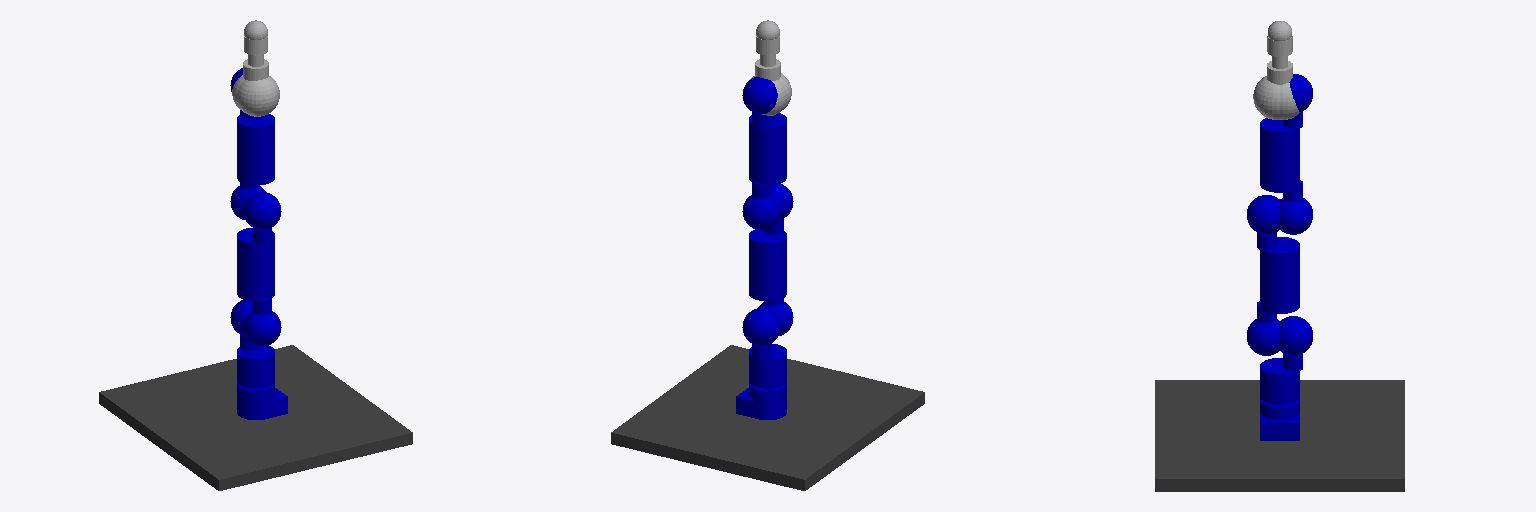
robot.urdf — lwr:
<?xml version="1.0" ?>
<!-- =================================================================================== -->
<!-- |    This document was autogenerated by xacro from kuka_lwr_arm.urdf.xml          | -->
<!-- |    EDITING THIS FILE BY HAND IS NOT RECOMMENDED                                 | -->
<!-- =================================================================================== -->
<robot name="lwr" xmlns:controller="http://playerstage.sourceforge.net/gazebo/xmlschema/#controller" xmlns:interface="http://playerstage.sourceforge.net/gazebo/xmlschema/#interface" xmlns:sensor="http://playerstage.sourceforge.net/gazebo/xmlschema/#sensor" xmlns:xacro="http://playerstage.sourceforge.net/gazebo/xmlschema/#interface">
  <material name="DarkGrey">
    <color rgba="0.3 0.3 0.3 1.0"/>
  </material>
  <material name="Red">
    <color rgba="0.3 0.3 0.3 1.0"/>
  </material>
  <material name="Black">
    <color rgba="0 0 0 1.0"/>
  </material>
  <material name="Orange">
    <color rgba="1.0 0.487 0 1.0"/>
  </material>
  <material name="Silver">
    <color rgba="1.0 1.0 1.0 1.0"/>
  </material>
  <material name="Grey">
    <color rgba="0.7 0.7 0.7 1.0"/>
  </material>
  <material name="Blue">
    <color rgba="0.0 0.0 0.8 1.0"/>
  </material>
  <material name="HandGray">
    <color rgba="0.953 0.996 0.694 1.0"/>
  </material>
  <material name="SickBlue">
    <color rgba="0.3058 0.5921 0.7294 1.0"/>
  </material>
  <link name="world_frame">
    <visual>
      <origin rpy="0 0 0" xyz="0 0 -0.02"/>
      <geometry>
        <box size="0.7 0.75 0.04"/>
      </geometry>
      <material name="DarkGrey"/>
    </visual>
    <collision>
      <origin rpy="0 0 0" xyz="0 0 -0.02"/>
      <geometry>
        <box size="0.7 0.75 0.04"/>
      </geometry>
    </collision>
  </link>
  <joint name="world_frame_lwr_arm_base_joint" type="fixed">
    <origin rpy="0 0 0" xyz="0 0 0"/>
    <parent link="world_frame"/>
    <child link="base"/>
  </joint>
  <link name="base">
    <inertial>
      <mass value="2.0"/>
      <origin xyz="0 0 0.055"/>
      <inertia ixx="0.00381666666667" ixy="0" ixz="0" iyy="0.0036" iyz="0" izz="0.00381666666667"/>
    </inertial>
    <visual>
      <origin rpy="0 0 0" xyz="0.04 0 0.03"/>
      <geometry>
        <box size="0.08 0.12 0.06"/>
      </geometry>
      <material name="Blue"/>
    </visual>
    <visual>
      <origin rpy="0 0 0" xyz="0 0 0.05"/>
      <geometry>
        <cylinder length="0.1" radius="0.06"/>
      </geometry>
      <material name="Blue"/>
    </visual>
    <collision>
      <origin rpy="0 0 0" xyz="0.04 0 0.03"/>
      <geometry>
        <box size="0.08 0.12 0.06"/>
      </geometry>
    </collision>
    <collision>
      <origin rpy="0 0 0" xyz="0 0 0.05"/>
      <geometry>
        <cylinder length="0.1" radius="0.06"/>
      </geometry>
    </collision>
  </link>
  <joint name="lwr_arm_0_joint" type="revolute">
    <origin rpy="0 0 3.14159265359" xyz="0 0 0.11"/>
    <axis xyz="0 0 1"/>
    <limit effort="204" lower="-2.96705972839" upper="2.96705972839" velocity="1.91986217719"/>
    <safety_controller k_position="30" k_velocity="30" soft_lower_limit="-2.93215314335" soft_upper_limit="2.93215314335"/>
    <dynamics damping="1.0"/>
    <parent link="base"/>
    <child link="lwr_arm_1_link"/>
  </joint>
  <link name="lwr_arm_1_link">
    <inertial>
      <mass value="2.0"/>
      <origin rpy="0 0 0" xyz="0 -0.06 0.130"/>
      <inertia ixx="0.0136666666667" ixy="0" ixz="0" iyy="0.003" iyz="0" izz="0.0118666666667"/>
    </inertial>
    <visual>
      <origin rpy="0 0 0" xyz="0 0 0.05"/>
      <geometry>
        <cylinder length="0.1" radius="0.06"/>
      </geometry>
      <material name="Blue"/>
    </visual>
    <visual>
      <origin rpy="0 0 0" xyz="0 -0.04 0.12"/>
      <geometry>
        <cylinder length="0.05" radius="0.03"/>
      </geometry>
      <material name="Blue"/>
    </visual>
    <visual>
      <origin rpy="0 0 0" xyz="0 -0.04 0.2"/>
      <geometry>
        <sphere radius="0.06"/>
      </geometry>
      <material name="Blue"/>
    </visual>
    <collision>
      <origin rpy="0 0 0" xyz="0 0 0.05"/>
      <geometry>
        <cylinder length="0.1" radius="0.06"/>
      </geometry>
    </collision>
    <collision>
      <origin rpy="0 0 0" xyz="0 -0.04 0.2"/>
      <geometry>
        <sphere radius="0.06"/>
      </geometry>
    </collision>
  </link>
  <!-- Third segment of the arm. Joint along y-axis -->
  <joint name="lwr_arm_1_joint" type="revolute">
    <origin rpy="0 0 0" xyz="0 0 0.2"/>
    <axis xyz="0 1 0"/>
    <limit effort="306" lower="-2.09439510239" upper="2.09439510239" velocity="1.91986217719"/>
    <safety_controller k_position="30" k_velocity="30" soft_lower_limit="-2.05948851735" soft_upper_limit="2.05948851735"/>
    <dynamics damping="1.0" friction="10"/>
    <parent link="lwr_arm_1_link"/>
    <child link="lwr_arm_2_link"/>
  </joint>
  <link name="lwr_arm_2_link">
    <inertial>
      <mass value="2.0"/>
      <origin rpy="0 0 0" xyz="0 0.06 0.07"/>
      <inertia ixx="0.0136666666667" ixy="0" ixz="0" iyy="0.003" iyz="0" izz="0.0118666666667"/>
    </inertial>
    <visual>
      <origin rpy="0 0 0" xyz="0 0 0.15"/>
      <geometry>
        <cylinder length="0.1" radius="0.06"/>
      </geometry>
      <material name="Blue"/>
    </visual>
    <visual>
      <origin rpy="0 0 0" xyz="0 0.04 0.08"/>
      <geometry>
        <cylinder length="0.05" radius="0.03"/>
      </geometry>
      <material name="Blue"/>
    </visual>
    <visual>
      <origin rpy="0 0 0" xyz="0 0.04 0"/>
      <geometry>
        <sphere radius="0.06"/>
      </geometry>
      <material name="Blue"/>
    </visual>
    <collision>
      <origin rpy="0 0 0" xyz="0 0 0.15"/>
      <geometry>
        <cylinder length="0.1" radius="0.06"/>
      </geometry>
    </collision>
    <collision>
      <origin rpy="0 0 0" xyz="0 0.04 0"/>
      <geometry>
        <sphere radius="0.06"/>
      </geometry>
    </collision>
  </link>
  <joint name="lwr_arm_2_joint" type="revolute">
    <origin rpy="0 0 0" xyz="0 0 0.20"/>
    <axis xyz="0 0 1"/>
    <limit effort="204" lower="-2.96705972839" upper="2.96705972839" velocity="2.26892802759"/>
    <safety_controller k_position="30" k_velocity="30" soft_lower_limit="-2.93215314335" soft_upper_limit="2.93215314335"/>
    <dynamics damping="1.0"/>
    <parent link="lwr_arm_2_link"/>
    <child link="lwr_arm_3_link"/>
  </joint>
  <link name="lwr_arm_3_link">
    <inertial>
      <mass value="2.0"/>
      <origin rpy="0 0 0" xyz="0 0.06 0.130"/>
      <inertia ixx="0.0136666666667" ixy="0" ixz="0" iyy="0.003" iyz="0" izz="0.0118666666667"/>
    </inertial>
    <visual>
      <origin rpy="0 0 0" xyz="0 0 0.05"/>
      <geometry>
        <cylinder length="0.1" radius="0.06"/>
      </geometry>
      <material name="Blue"/>
    </visual>
    <visual>
      <origin rpy="0 0 0" xyz="0 0.04 0.12"/>
      <geometry>
        <cylinder length="0.05" radius="0.03"/>
      </geometry>
      <material name="Blue"/>
    </visual>
    <visual>
      <origin rpy="0 0 0" xyz="0 0.04 0.2"/>
      <geometry>
        <sphere radius="0.06"/>
      </geometry>
      <material name="Blue"/>
    </visual>
    <collision>
      <origin rpy="0 0 0" xyz="0 0 0.05"/>
      <geometry>
        <cylinder length="0.1" radius="0.06"/>
      </geometry>
    </collision>
    <collision>
      <origin rpy="0 0 0" xyz="0 0.04 0.2"/>
      <geometry>
        <sphere radius="0.06"/>
      </geometry>
    </collision>
  </link>
  <!-- fifth element of the arm. x-axis -->
  <joint name="lwr_arm_3_joint" type="revolute">
    <origin rpy="0 0 0" xyz="0 0 0.20"/>
    <axis xyz="0 -1 0"/>
    <limit effort="306" lower="-2.09439510239" upper="2.09439510239" velocity="2.26892802759"/>
    <safety_controller k_position="30" k_velocity="30" soft_lower_limit="-2.05948851735" soft_upper_limit="2.05948851735"/>
    <dynamics damping="1.0"/>
    <parent link="lwr_arm_3_link"/>
    <child link="lwr_arm_4_link"/>
  </joint>
  <link name="lwr_arm_4_link">
    <inertial>
      <mass value="2.0"/>
      <origin rpy="0 0 0" xyz="0 -0.06 0.07"/>
      <inertia ixx="0.0136666666667" ixy="0" ixz="0" iyy="0.003" iyz="0" izz="0.0118666666667"/>
    </inertial>
    <visual>
      <origin rpy="0 0 0" xyz="0 0 0.15"/>
      <geometry>
        <cylinder length="0.1" radius="0.06"/>
      </geometry>
      <material name="Blue"/>
    </visual>
    <visual>
      <origin rpy="0 0 0" xyz="0 -0.04 0.08"/>
      <geometry>
        <cylinder length="0.05" radius="0.03"/>
      </geometry>
      <material name="Blue"/>
    </visual>
    <visual>
      <origin rpy="0 0 0" xyz="0 -0.04 0"/>
      <geometry>
        <sphere radius="0.06"/>
      </geometry>
      <material name="Blue"/>
    </visual>
    <collision>
      <origin rpy="0 0 0" xyz="0 0 0.15"/>
      <geometry>
        <cylinder length="0.1" radius="0.06"/>
      </geometry>
    </collision>
    <collision>
      <origin rpy="0 0 0" xyz="0 -0.04 0"/>
      <geometry>
        <sphere radius="0.06"/>
      </geometry>
    </collision>
  </link>
  <joint name="lwr_arm_4_joint" type="revolute">
    <origin rpy="0 0 0" xyz="0 0 0.20"/>
    <axis xyz="0 0 1"/>
    <limit effort="204" lower="-2.96705972839" upper="2.96705972839" velocity="2.26892802759"/>
    <safety_controller k_position="30" k_velocity="30" soft_lower_limit="-2.93215314335" soft_upper_limit="2.93215314335"/>
    <dynamics damping="1.0"/>
    <parent link="lwr_arm_4_link"/>
    <child link="lwr_arm_5_link"/>
  </joint>
  <link name="lwr_arm_5_link">
    <inertial>
      <mass value="2.0"/>
      <origin rpy="0 0 0" xyz="0 0 0.124"/>
      <inertia ixx="0.0126506666667" ixy="0" ixz="0" iyy="0.003" iyz="0" izz="0.0108506666667"/>
    </inertial>
    <visual>
      <origin rpy="0 0 0" xyz="0 0 0.05"/>
      <geometry>
        <cylinder length="0.1" radius="0.06"/>
      </geometry>
      <material name="Blue"/>
    </visual>
    <visual>
      <origin rpy="0 0 0" xyz="0 -0.04 0.12"/>
      <geometry>
        <cylinder length="0.05" radius="0.03"/>
      </geometry>
      <material name="Blue"/>
    </visual>
    <visual>
      <origin rpy="0 0 0" xyz="0 -0.04 0.2"/>
      <geometry>
        <sphere radius="0.06"/>
      </geometry>
      <material name="Blue"/>
    </visual>
    <collision>
      <origin rpy="0 0 0" xyz="0 0 0.05"/>
      <geometry>
        <cylinder length="0.1" radius="0.06"/>
      </geometry>
    </collision>
    <collision>
      <origin rpy="0 0 0" xyz="0 -0.04 0.2"/>
      <geometry>
        <sphere radius="0.06"/>
      </geometry>
    </collision>
  </link>
  <joint name="lwr_arm_5_joint" type="revolute">
    <origin rpy="0 0 0" xyz="0 0 0.19"/>
    <axis xyz="0 1 0"/>
    <limit effort="306" lower="-2.09439510239" upper="2.09439510239" velocity="3.14159265359"/>
    <safety_controller k_position="30" k_velocity="30" soft_lower_limit="-2.05948851735" soft_upper_limit="2.05948851735"/>
    <dynamics damping="1.0"/>
    <parent link="lwr_arm_5_link"/>
    <child link="lwr_arm_6_link"/>
  </joint>
  <link name="lwr_arm_6_link">
    <inertial>
      <mass value="0.2"/>
      <origin rpy="0 0 0" xyz="0 0 0.0625"/>
      <inertia ixx="0.000520833333333" ixy="0" ixz="0" iyy="0.000520833333333" iyz="0" izz="0.000520833333333"/>
    </inertial>
    <visual>
      <origin rpy="0 0 0" xyz="0 0.01 0"/>
      <geometry>
        <sphere radius="0.07"/>
      </geometry>
      <material name="Grey"/>
    </visual>
    <visual>
      <origin rpy="0 0 0" xyz="0 -0.01 0"/>
      <geometry>
        <sphere radius="0.07"/>
      </geometry>
    </visual>
    <collision>
      <origin rpy="0 0 0" xyz="0 0.01 0"/>
      <geometry>
        <sphere radius="0.07"/>
      </geometry>
      <material name="Grey"/>
    </collision>
    <collision>
      <origin rpy="0 0 0" xyz="0 -0.01 0"/>
      <geometry>
        <sphere radius="0.07"/>
      </geometry>
    </collision>
  </link>
  <joint name="lwr_arm_6_joint" type="revolute">
    <origin rpy="0 0 3.14159265359" xyz="0 0 0.078"/>
    <axis xyz="0 0 1"/>
    <limit effort="204" lower="-2.96705972839" upper="2.96705972839" velocity="3.14159265359"/>
    <safety_controller k_position="30" k_velocity="30" soft_lower_limit="-2.93215314335" soft_upper_limit="2.93215314335"/>
    <dynamics damping="1.0"/>
    <parent link="lwr_arm_6_link"/>
    <child link="lwr_arm_7_link"/>
  </joint>
  <link name="lwr_arm_7_link">
    <inertial>
      <mass value="0.2"/>
      <origin xyz="0 0 0"/>
      <inertia ixx="0.0333333333333" ixy="0" ixz="0" iyy="0.0333333333333" iyz="0" izz="0.0333333333333"/>
    </inertial>
    <visual>
      <origin rpy="0 0 -0.785398163397" xyz="0 0 0"/>
      <geometry>
        <cylinder length="0.05" radius="0.04"/>
      </geometry>
      <material name="Grey"/>
    </visual>
    <collision>
      <origin rpy="0 0 -0.785398163397" xyz="0 0 0"/>
      <geometry>
        <cylinder length="0.05" radius="0.04"/>
      </geometry>
    </collision>
  </link>
  <link name="force_torque_sensor">
    <inertial>
      <mass value="0.2"/>
      <origin xyz="0 0 0"/>
      <inertia ixx="0.0333333333333" ixy="0" ixz="0" iyy="0.0333333333333" iyz="0" izz="0.0333333333333"/>
    </inertial>
    <visual>
      <origin rpy="0 0 0" xyz="0 0 -0.065"/>
      <geometry>
        <cylinder length="0.09" radius="0.025"/>
      </geometry>
      <material name="Grey"/>
    </visual>
    <visual>
      <origin rpy="0 0 0" xyz="0 0 -0.016"/>
      <geometry>
        <cylinder length="0.032" radius="0.0375"/>
      </geometry>
      <material name="Grey"/>
    </visual>
    <visual>
      <origin rpy="0 0 0" xyz="0 0 0.01"/>
      <geometry>
        <cylinder length="0.02" radius="0.0375"/>
      </geometry>
      <material name="Grey"/>
    </visual>
  </link>
  <joint name="force_torque_sensor_mount" type="fixed">
    <origin rpy="0 0 0.22" xyz="0 0 0.102"/>
    <parent link="lwr_arm_7_link"/>
    <child link="force_torque_sensor"/>
  </joint>
  <link name="contact_point">
    <visual>
      <origin rpy="0 0 0" xyz="0 0 0"/>
      <geometry>
        <sphere radius="0.0375"/>
      </geometry>
      <material name="Grey"/>
    </visual>
  </link>
  <joint name="contact_point_joint" type="fixed">
    <origin rpy="0 0 -0.22" xyz="0 0 0.03"/>
    <parent link="force_torque_sensor"/>
    <child link="contact_point"/>
  </joint>
</robot>

--- Render facts (derived) ---
Views: 3 orthographic renders of the robot side by side, from view 1: azimuth 30°, elevation 25°; view 2: azimuth 150°, elevation 25°; view 3: azimuth 270°, elevation 25°.
Model lwr with 11 links and 10 joints (7 revolute, 3 fixed), rooted at world_frame, posed every joint at zero.
Links seen in each view (by area): view 1: world_frame, lwr_arm_3_link, lwr_arm_2_link, lwr_arm_1_link, lwr_arm_4_link, lwr_arm_5_link, base, lwr_arm_6_link, force_torque_sensor; view 2: world_frame, lwr_arm_1_link, lwr_arm_5_link, lwr_arm_4_link, lwr_arm_3_link, lwr_arm_2_link, base, force_torque_sensor, lwr_arm_6_link; view 3: world_frame, lwr_arm_1_link, lwr_arm_3_link, lwr_arm_2_link, lwr_arm_4_link, lwr_arm_5_link, base, lwr_arm_6_link, force_torque_sensor.
Boxes of the visible links, bbox=[...] form: world_frame: bbox=[99, 345, 412, 490]; lwr_arm_3_link: bbox=[237, 192, 281, 272]; lwr_arm_2_link: bbox=[237, 266, 281, 345]; lwr_arm_1_link: bbox=[230, 300, 274, 388]; lwr_arm_4_link: bbox=[230, 150, 274, 219]; lwr_arm_5_link: bbox=[230, 68, 274, 156]; base: bbox=[237, 382, 287, 419]; lwr_arm_6_link: bbox=[232, 75, 279, 116]; force_torque_sensor: bbox=[244, 36, 267, 66]; world_frame: bbox=[611, 345, 924, 490]; lwr_arm_1_link: bbox=[742, 308, 786, 388]; lwr_arm_5_link: bbox=[742, 77, 786, 156]; lwr_arm_4_link: bbox=[742, 150, 786, 229]; lwr_arm_3_link: bbox=[749, 184, 793, 272]; lwr_arm_2_link: bbox=[749, 266, 793, 335]; base: bbox=[736, 382, 786, 419]; force_torque_sensor: bbox=[756, 36, 779, 66]; lwr_arm_6_link: bbox=[750, 73, 791, 115]; world_frame: bbox=[1155, 380, 1404, 491]; lwr_arm_1_link: bbox=[1260, 316, 1312, 404]; lwr_arm_3_link: bbox=[1247, 195, 1299, 283]; lwr_arm_2_link: bbox=[1247, 277, 1299, 355]; lwr_arm_4_link: bbox=[1260, 156, 1312, 234]; lwr_arm_5_link: bbox=[1260, 74, 1312, 162]; base: bbox=[1260, 399, 1299, 440]; lwr_arm_6_link: bbox=[1253, 76, 1299, 119]; force_torque_sensor: bbox=[1267, 36, 1292, 68].
Size in the robot's own frame: 0.7 by 0.75 by 1.39 metres.
Geometry: primitives only (box / cylinder / sphere), no mesh files.